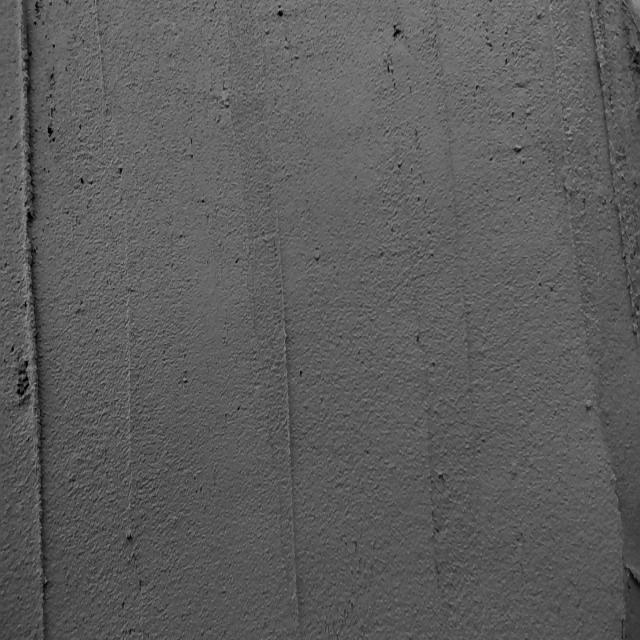trowels marks: (11, 0, 57, 626), (278, 199, 307, 619)
